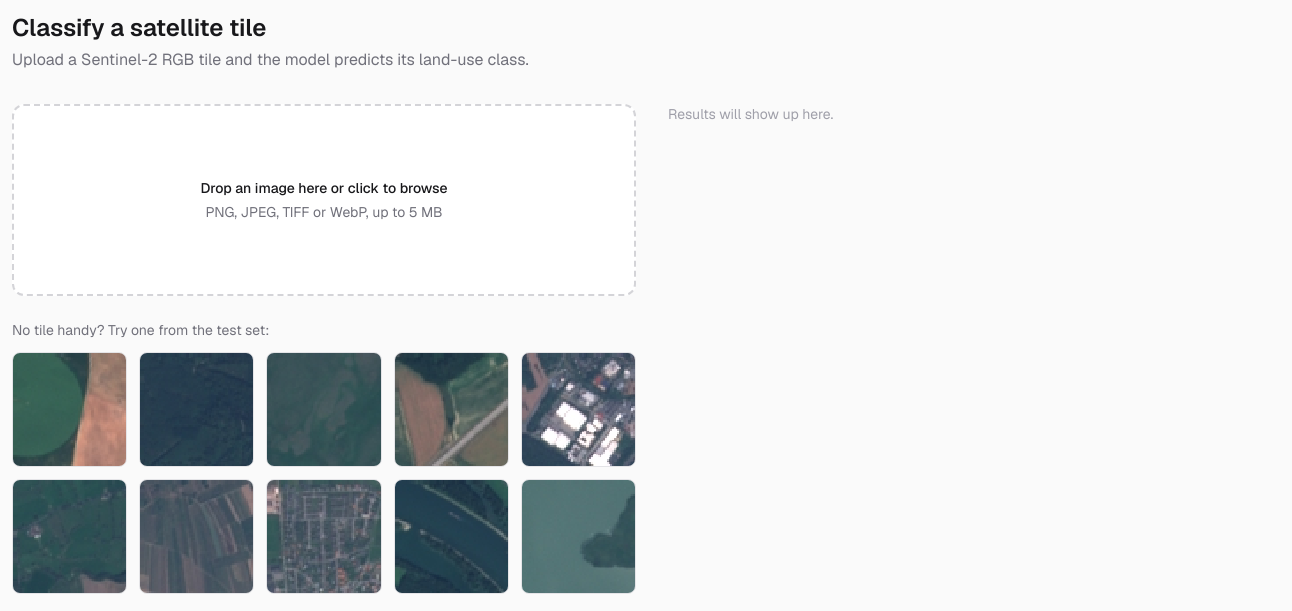
Test: shows the API error message
The image size is (1292, 611).
Click the button named "Forest": point(197, 410) left=139, top=352, right=254, bottom=467
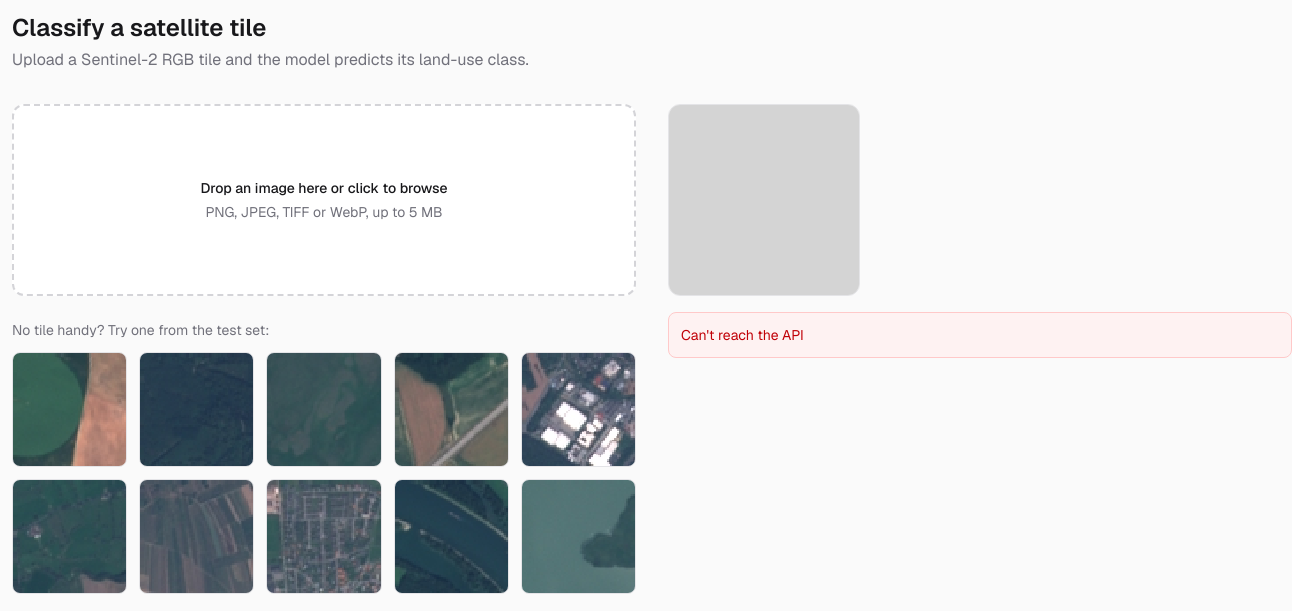
Now the text "Can't reach the API" is shown, box left=668, top=312, right=1291, bottom=358
